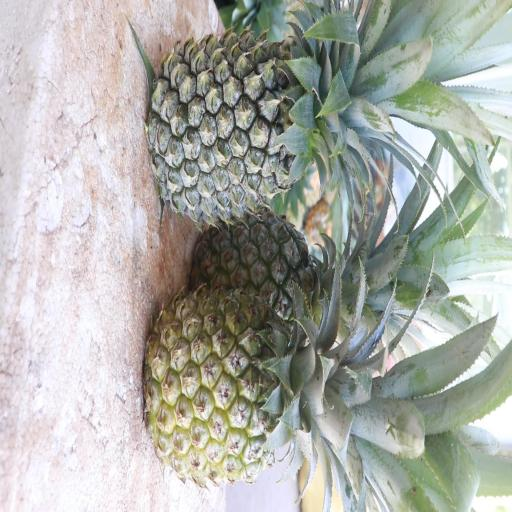------------------------------: (139, 280, 376, 494), (188, 198, 387, 357)
